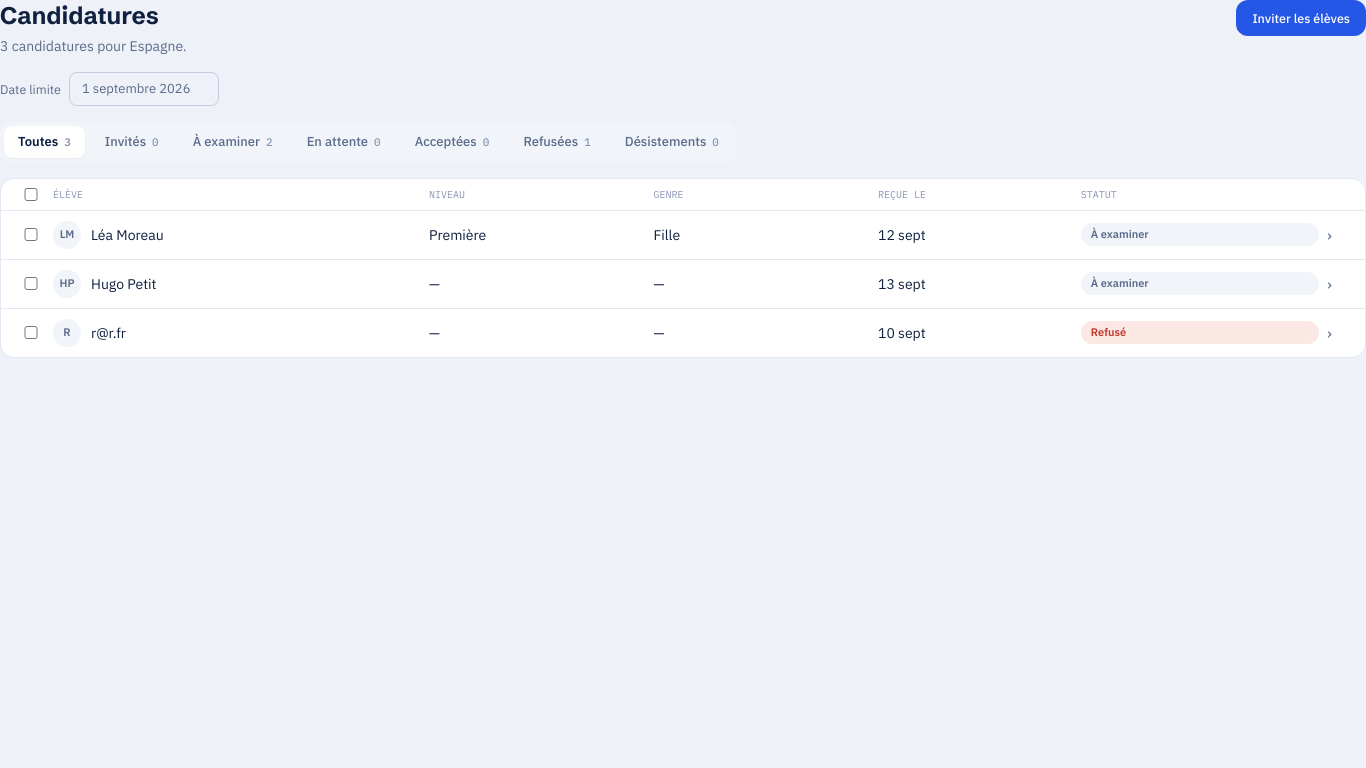
it: CandidaturesView › offers Inviter les élèves, carrying both the apply link and the email form
Click the button "Inviter les élèves" at (1301, 18), box [1236,0,1365,36]
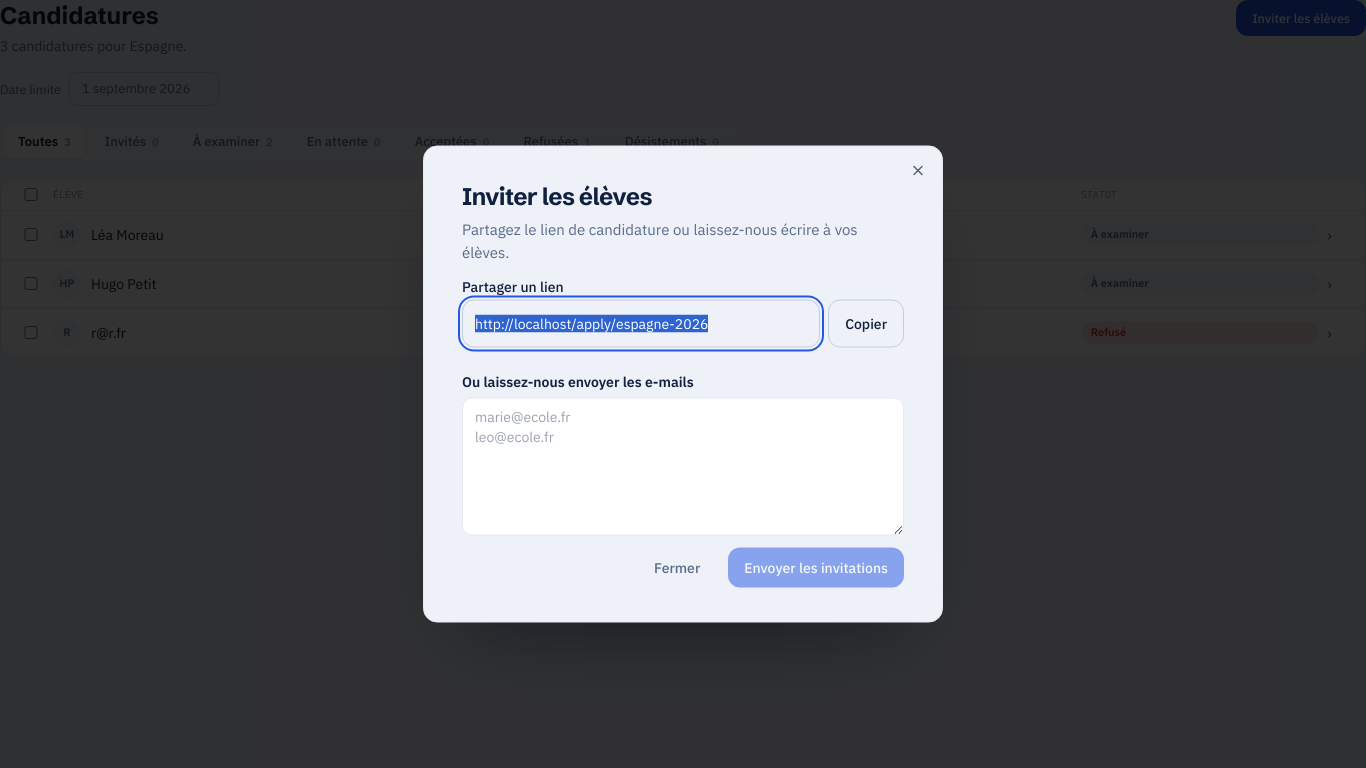
Expected: the button "Envoyer les invitations" is shown, [728,548,904,588]
